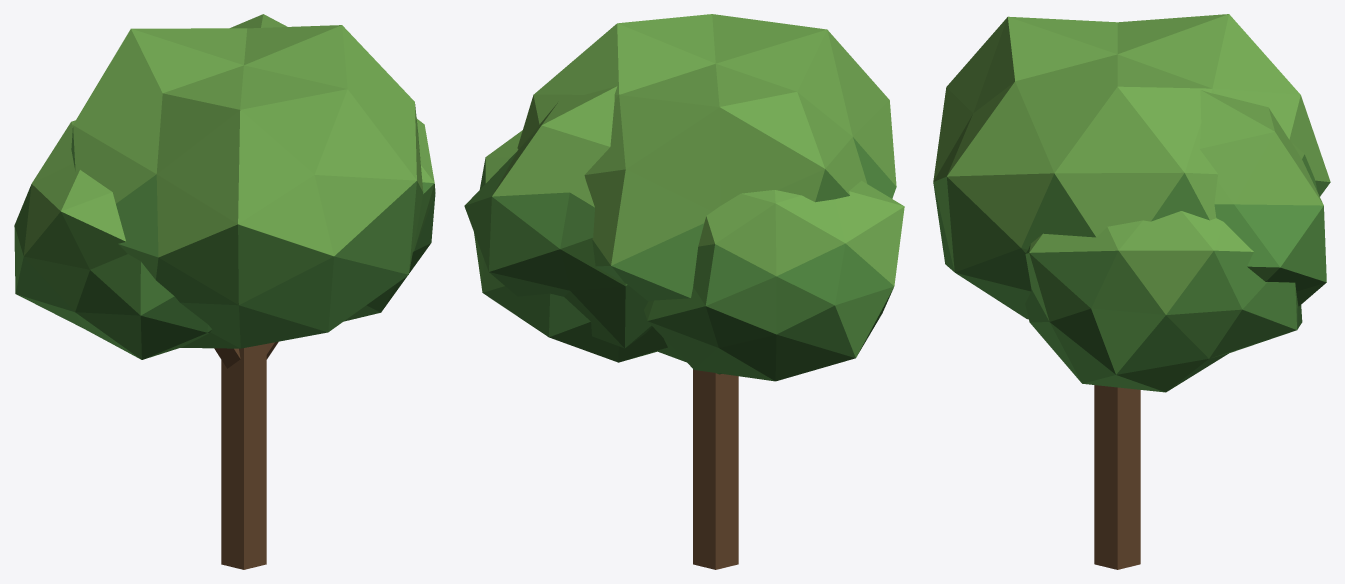
File: tree_broadleaf_a.glb
The picture shows the model from 3 angles, left to right: view 1: azimuth 30°, elevation 25°; view 2: azimuth 150°, elevation 25°; view 3: azimuth 270°, elevation 25°; orthographic projection. The views are drawn at different scales.
Visible parts, largest first — view 1: tree_broadleaf_a; view 2: tree_broadleaf_a; view 3: tree_broadleaf_a.
Boxes of the visible parts, x1,y1,x2,y2 form: tree_broadleaf_a: (14, 14, 435, 569); tree_broadleaf_a: (464, 14, 904, 569); tree_broadleaf_a: (933, 14, 1330, 569).
Size of the model in its own units: 1.72 by 2.14 by 1.48.
